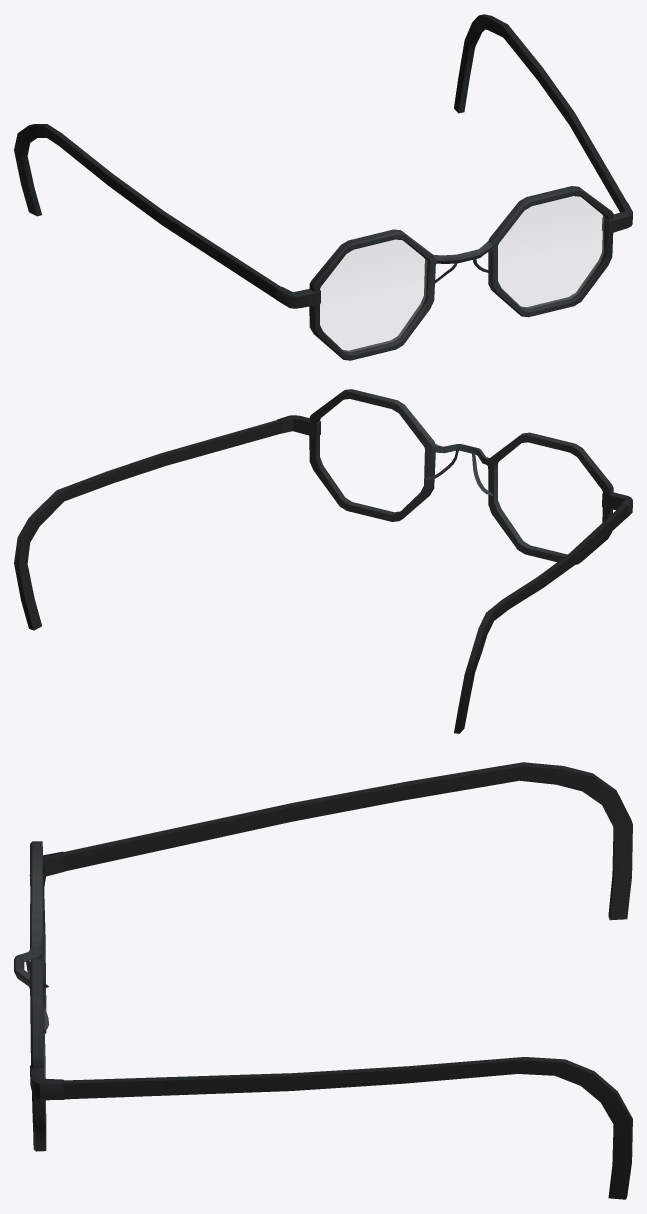
File: glasses.glb
3 renders of one model, top to bottom at view 1: azimuth 30°, elevation 25°; view 2: azimuth 150°, elevation 25°; view 3: azimuth 270°, elevation 25°, orthographic. The views are drawn at different scales.
Parts seen in each view (by area): view 1: Wolf3D_Glasses; view 2: Wolf3D_Glasses; view 3: Wolf3D_Glasses.
Boxes of the visible parts, x1=… form: Wolf3D_Glasses: x1=14, y1=14, x2=632, y2=360; Wolf3D_Glasses: x1=14, y1=389, x2=632, y2=733; Wolf3D_Glasses: x1=14, y1=762, x2=632, y2=1199.
Size of the model in its own units: 0.164 by 0.0416 by 0.1411.
Materials: 1 (1 with a texture image).
